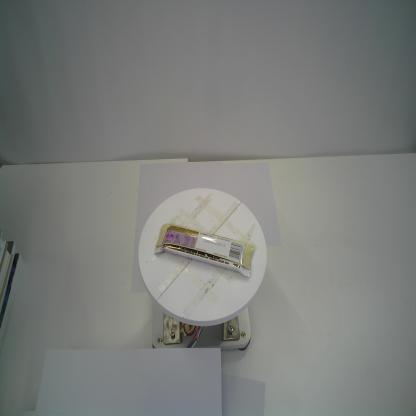Chocolate: (153, 222, 255, 278)
